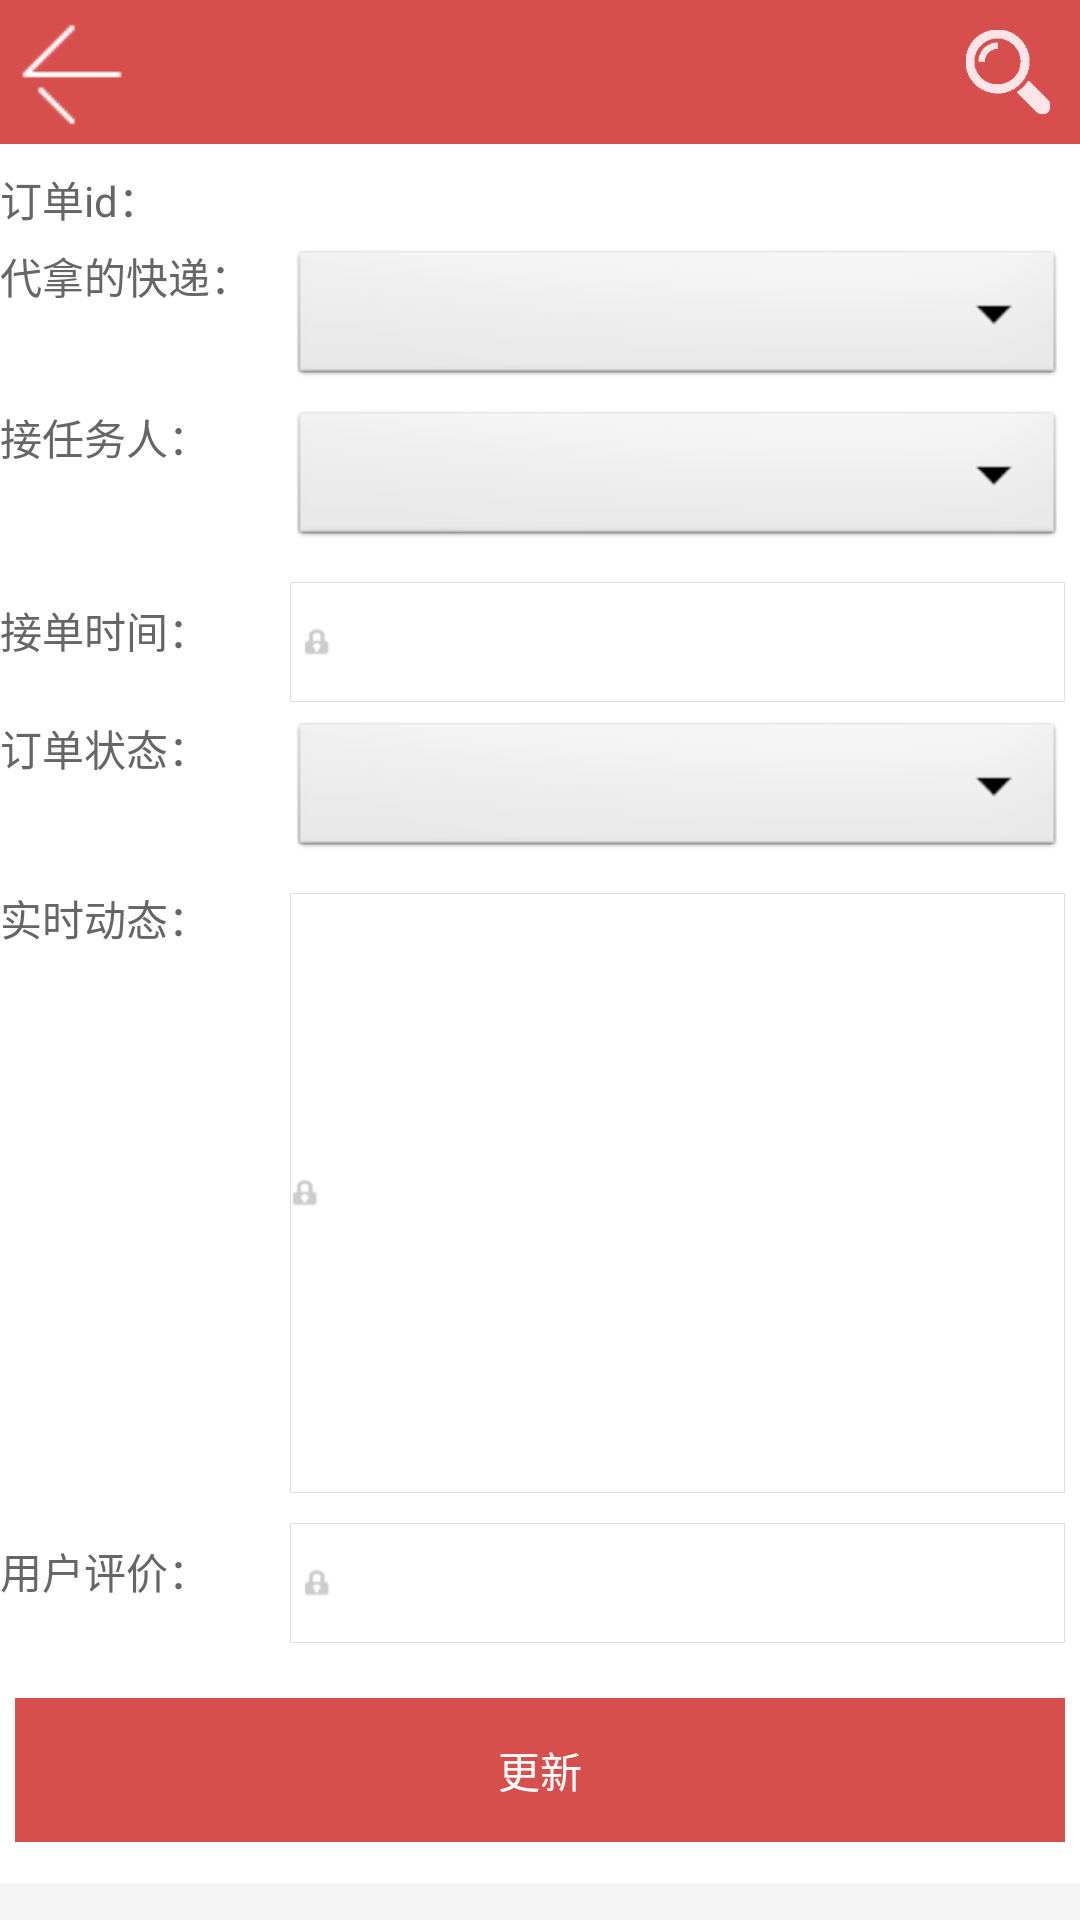

Screen size 1080 x 1920. Icon name, then its box in pixels as [x1,y1,x2,y2]:
left: [22,25,122,125]
search: [966,30,1050,114]
